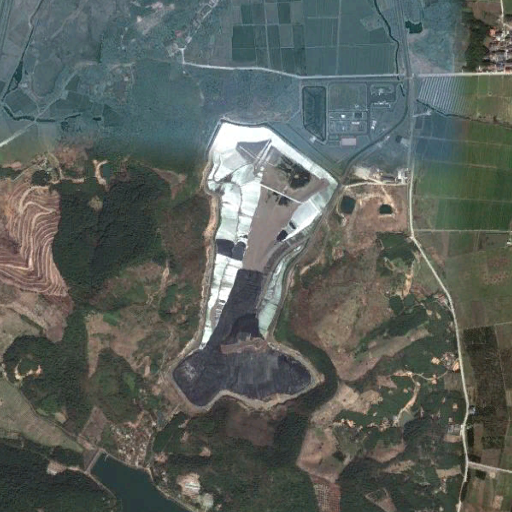lf: (163, 116, 333, 404)
